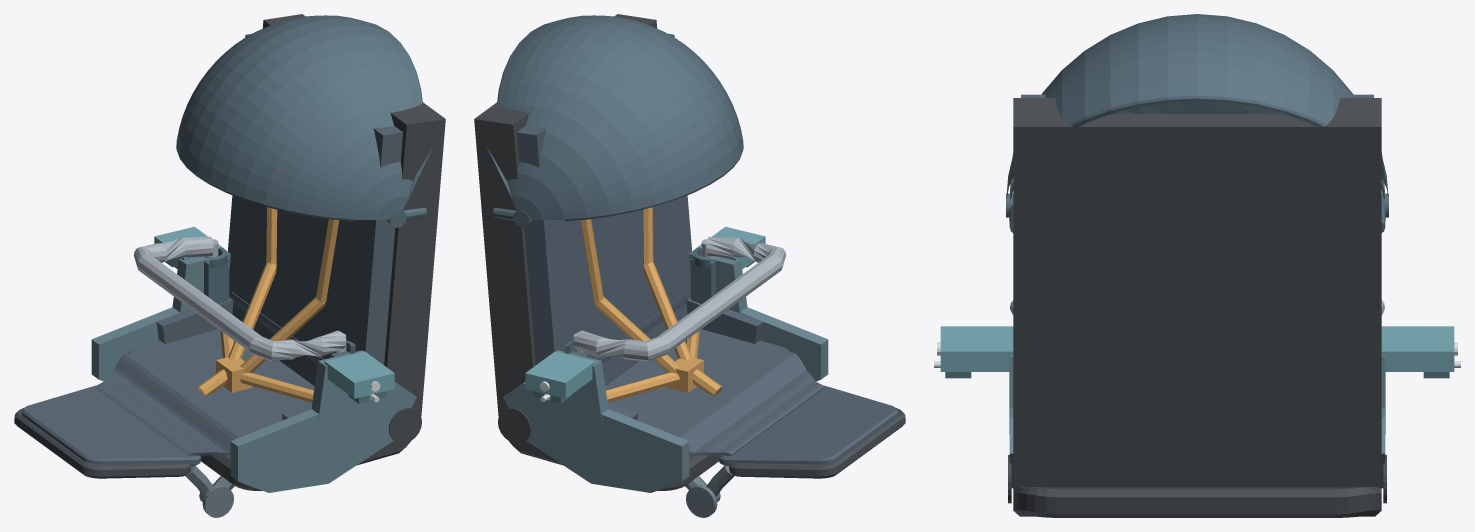
3 views of the same model, side by side, from view 1: azimuth 30°, elevation 25°; view 2: azimuth 150°, elevation 25°; view 3: azimuth 270°, elevation 25° (orthographic). The views are drawn at different scales.
Parts seen in each view (by area): view 1: S05_Cabin, S05_Cabin_Mount_M; view 2: S05_Cabin, S05_Cabin_Mount_M; view 3: S05_Cabin, S05_Cabin_Mount_M.
Boxes of the visible parts, x1,y1,x2,y2 form: S05_Cabin: (14,14,445,517); S05_Cabin_Mount_M: (91,226,416,492); S05_Cabin: (474,14,905,517); S05_Cabin_Mount_M: (503,226,828,492); S05_Cabin: (1006,14,1388,517); S05_Cabin_Mount_M: (934,326,1460,488).
Bounding box in the file's own units: 0.5414 × 0.6215 × 0.564.
